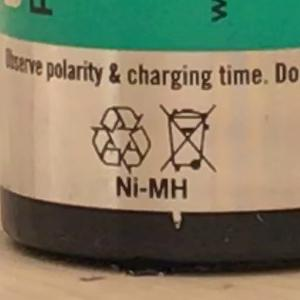NI-MH: (106, 168, 197, 208)
